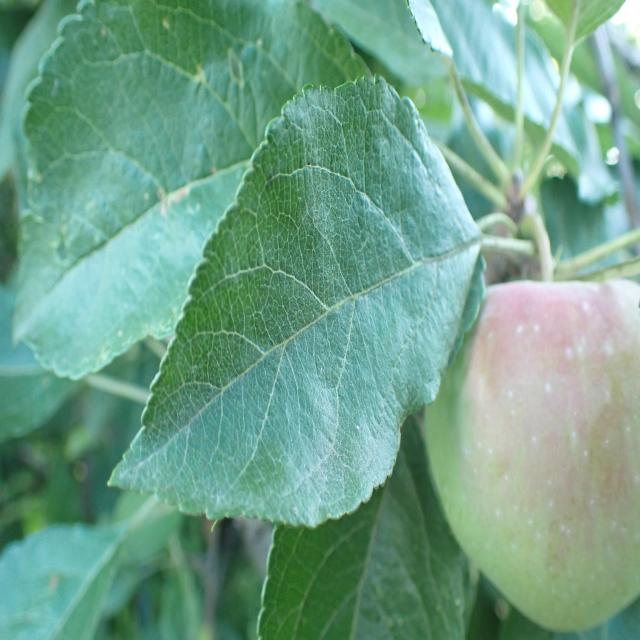Powdery_mildew: (130, 85, 482, 536)
